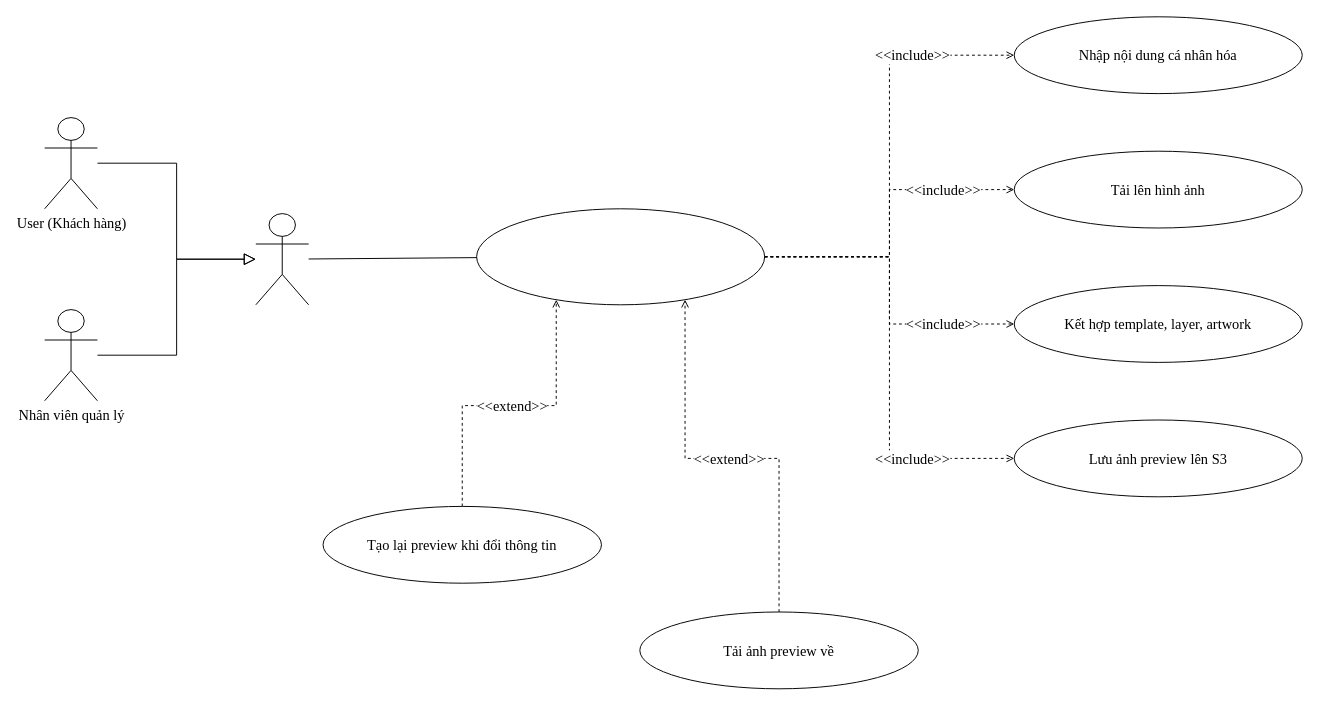
Image size: 1319x706. Some labels were removed from this diagram. Each missing label, with the box of its shape:
Người dùng: (255, 213, 309, 305)
Tạo ảnh xem trước (Preview): (476, 208, 765, 305)
